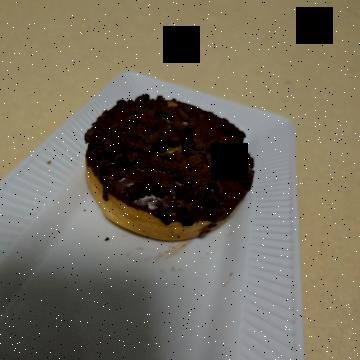doughnut: (60, 92, 247, 292)
